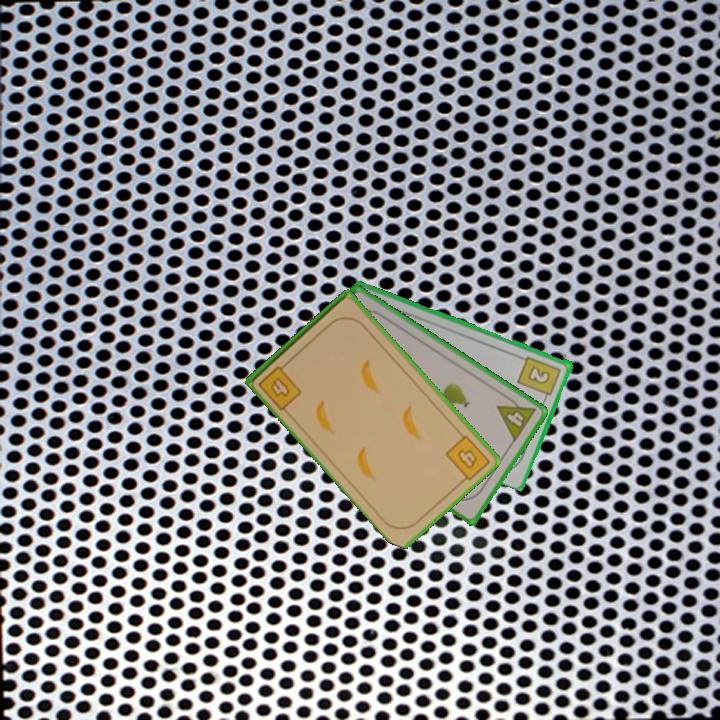2b: (515, 352, 564, 403)
4b: (442, 431, 493, 487), (254, 358, 305, 413)
4p: (493, 391, 539, 445)
